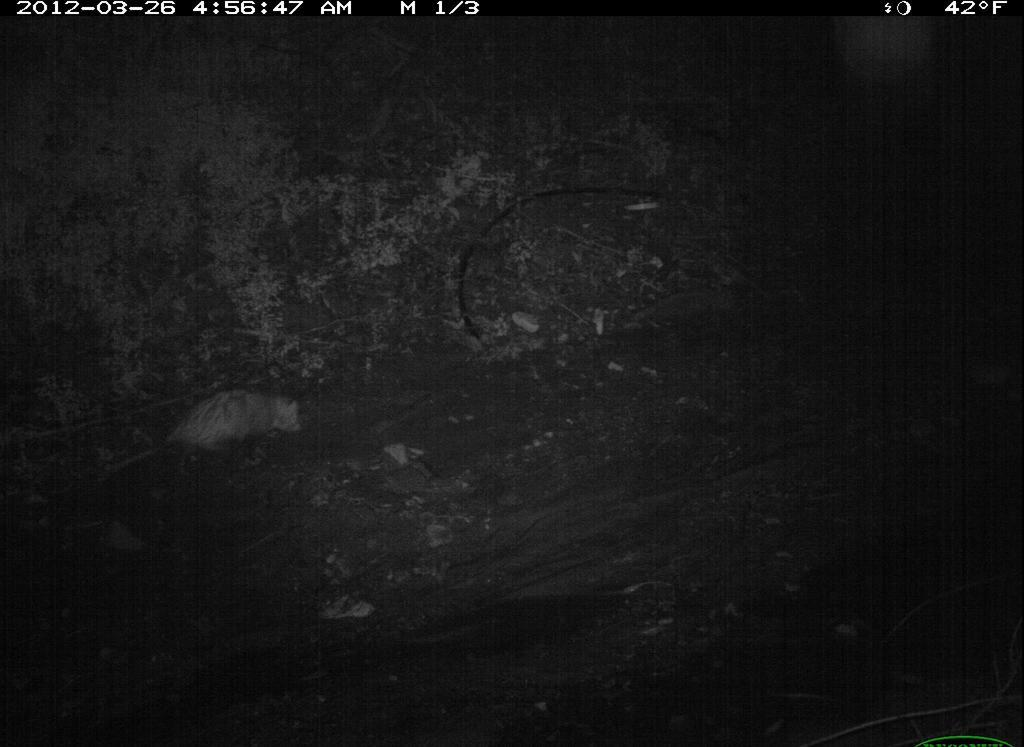opossum: (71, 383, 317, 504)
